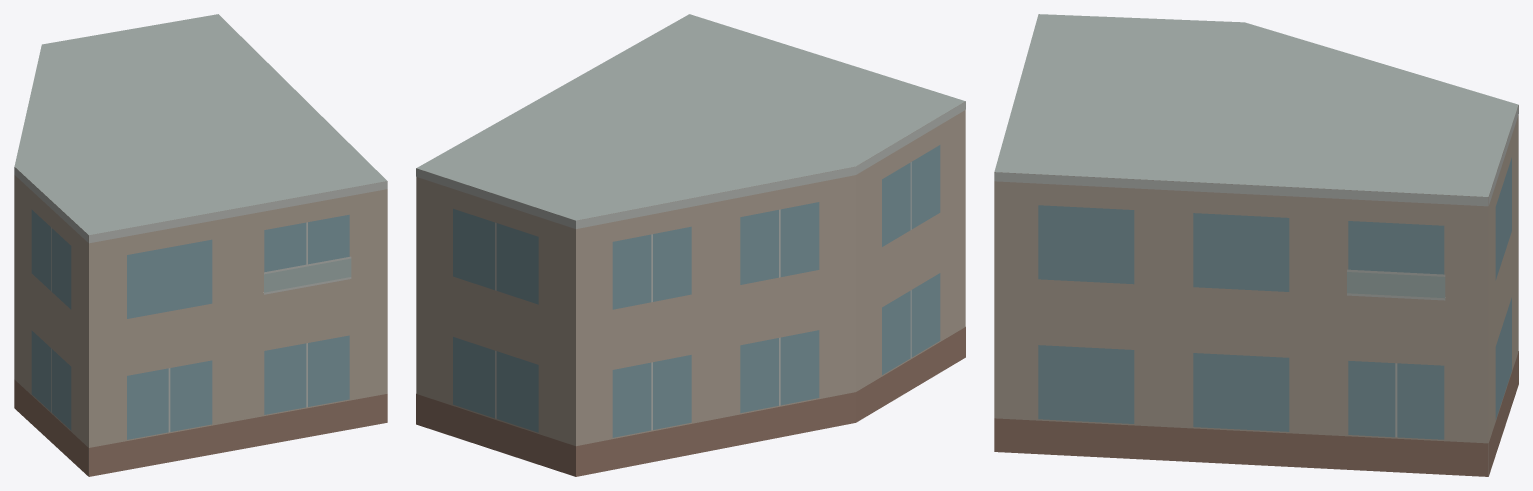
File: survey-upis-32992112.glb
3 views of the same model, side by side, from view 1: azimuth 30°, elevation 25°; view 2: azimuth 150°, elevation 25°; view 3: azimuth 270°, elevation 25° (orthographic). The views are drawn at different scales.
Parts seen in each view (by area): view 1: survey-upis-32992112.tmp; view 2: survey-upis-32992112.tmp; view 3: survey-upis-32992112.tmp.
Part boxes in pixels (box(x1,y1,x2,y2)): survey-upis-32992112.tmp: box(14, 14, 387, 476); survey-upis-32992112.tmp: box(416, 14, 965, 476); survey-upis-32992112.tmp: box(994, 14, 1518, 476).
Size of the model in its own units: 10.25 by 7.3 by 12.41.
